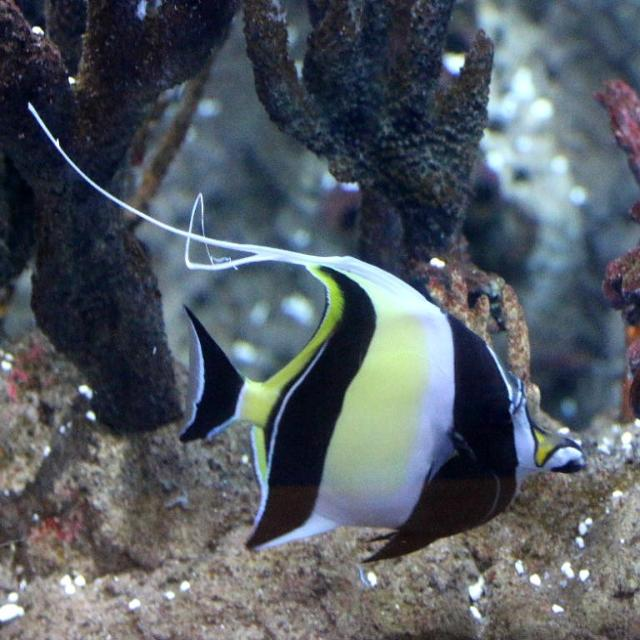MorishIdol: (27, 100, 588, 568)
